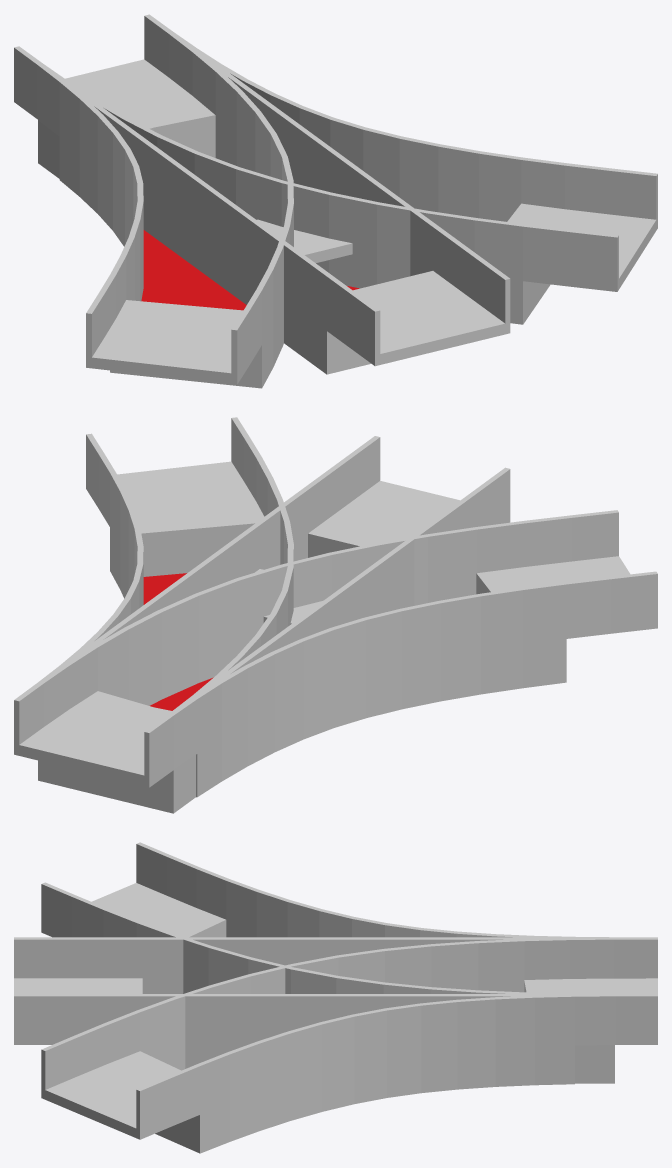
The model's file is HolePath.fbx.
3 views of the same model, one above another, from view 1: azimuth 30°, elevation 25°; view 2: azimuth 150°, elevation 25°; view 3: azimuth 270°, elevation 25° (orthographic). The views are drawn at different scales.
Visible parts, largest first — view 1: CurveLeftWithHole, CurveRightWithHole, StraightLongWithHole, ShortStraightWithHole; view 2: CurveRightWithHole, CurveLeftWithHole, StraightLongWithHole, ShortStraightWithHole; view 3: CurveLeftWithHole, StraightLongWithHole, CurveRightWithHole, ShortStraightWithHole.
Part boxes in pixels (x1,y1,x2,y2): CurveLeftWithHole: (14,14,657,324); CurveRightWithHole: (14,14,293,388); StraightLongWithHole: (18,16,510,374); ShortStraightWithHole: (38,55,364,262); CurveRightWithHole: (14,510,657,797); CurveLeftWithHole: (14,417,293,787); StraightLongWithHole: (14,436,510,786); ShortStraightWithHole: (14,542,359,813); CurveLeftWithHole: (41,937,657,1153); StraightLongWithHole: (14,937,657,1068); CurveRightWithHole: (41,842,657,996); ShortStraightWithHole: (272,937,617,1083).
Size of what is drawn, in the model's own units: 68.6 by 11.25 by 75.
